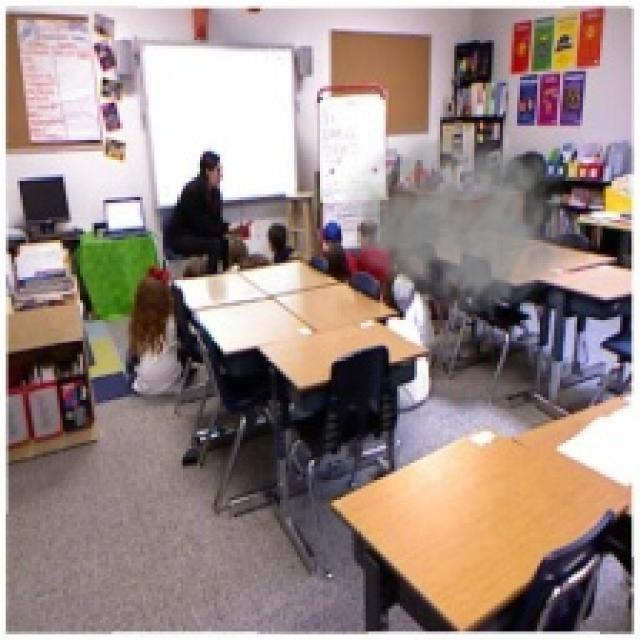Smoke: (331, 108, 580, 320)
